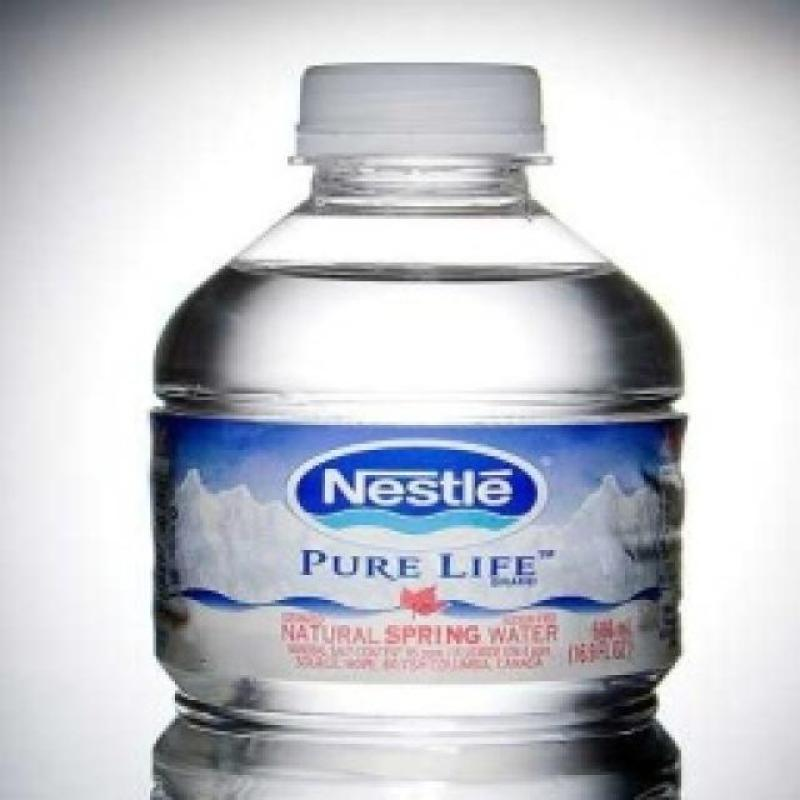botella: (142, 50, 689, 800)
